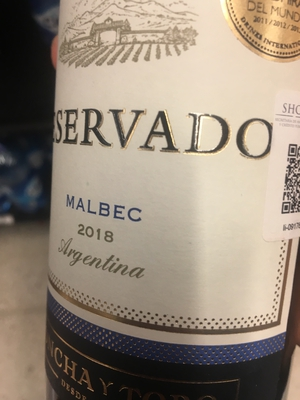reservado malbec: (43, 1, 300, 384)
